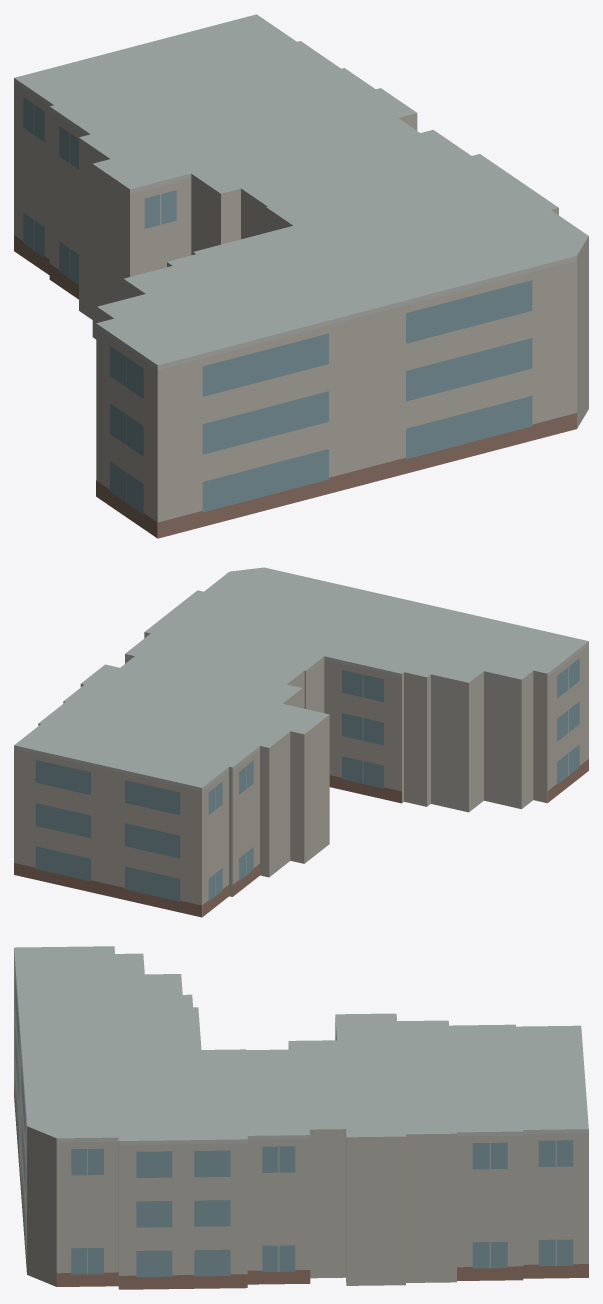
File: survey-upis-32872810.glb
3 renders of one model, top to bottom at view 1: azimuth 30°, elevation 25°; view 2: azimuth 150°, elevation 25°; view 3: azimuth 270°, elevation 25°, orthographic. The views are drawn at different scales.
Visible parts, largest first — view 1: survey-upis-32872810.tmp; view 2: survey-upis-32872810.tmp; view 3: survey-upis-32872810.tmp.
Boxes of the visible parts, x1,y1,x2,y2 form: survey-upis-32872810.tmp: (14, 14, 588, 538); survey-upis-32872810.tmp: (14, 567, 588, 917); survey-upis-32872810.tmp: (14, 946, 588, 1289).
Bounding box in the file's own units: 25.73 × 9.15 × 32.07.
